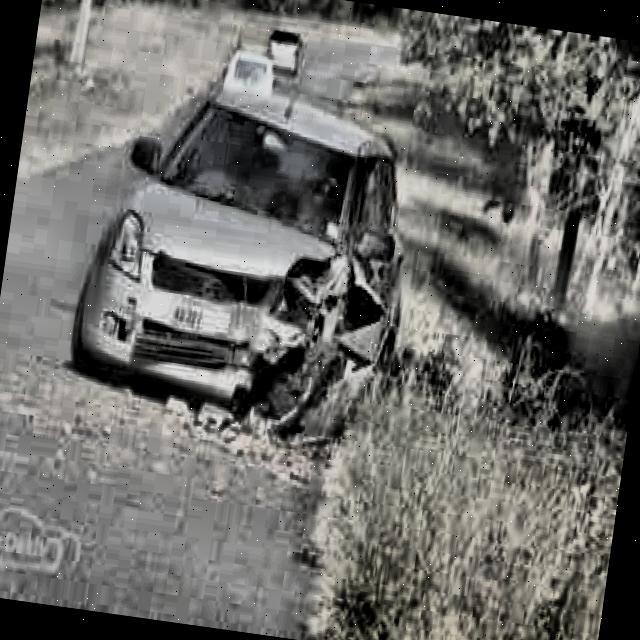license_plate: (166, 291, 235, 341)
